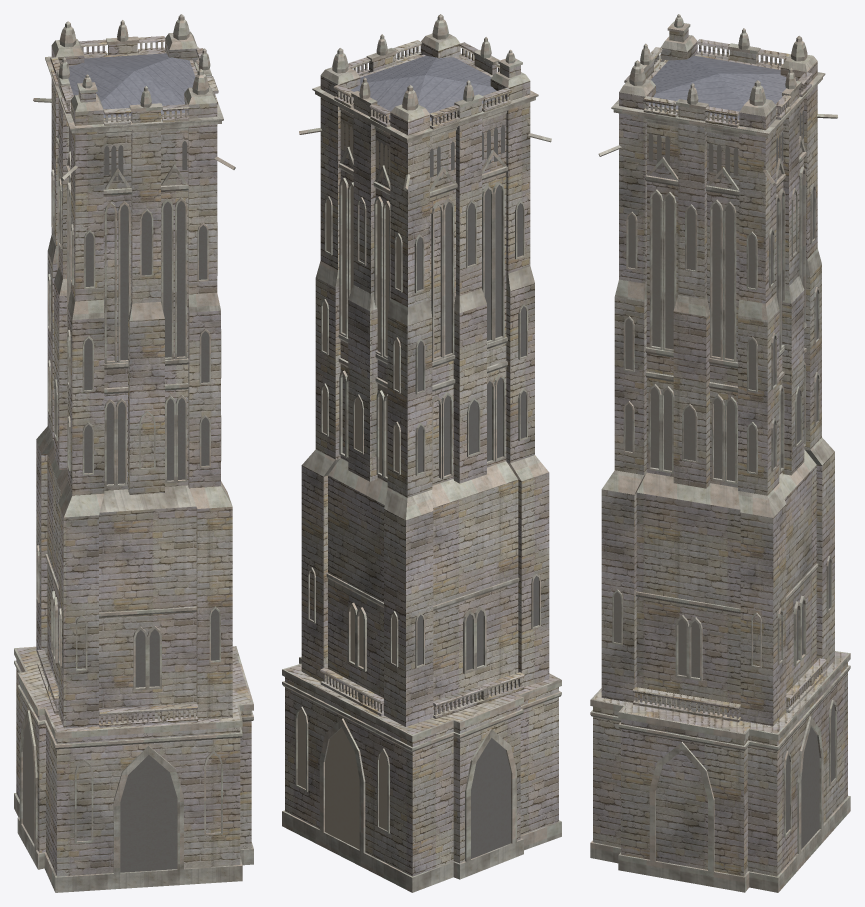
The model's file is tour-saint-jacques.glb.
3 renders of one model, left to right at view 1: azimuth 30°, elevation 25°; view 2: azimuth 150°, elevation 25°; view 3: azimuth 270°, elevation 25°, orthographic. The views are drawn at different scales.
Parts seen in each view (by area): view 1: stone, trim, window, roof; view 2: stone, trim, window, roof; view 3: stone, trim, window, roof.
Part boxes in pixels (<box>): stone: <box>16,36,251,876</box>; trim: <box>14,14,253,892</box>; window: <box>23,127,219,872</box>; roof: <box>68,53,195,117</box>; stone: <box>285,40,558,876</box>; trim: <box>282,14,561,892</box>; window: <box>297,121,538,858</box>; roof: <box>351,55,502,121</box>; stone: <box>593,28,847,876</box>; trim: <box>590,14,850,892</box>; window: <box>614,110,834,849</box>; roof: <box>649,55,786,119</box>.
Bounding box in the file's own units: 15.3 × 52 × 15.5.
Materials: 4 (4 with a texture image).
